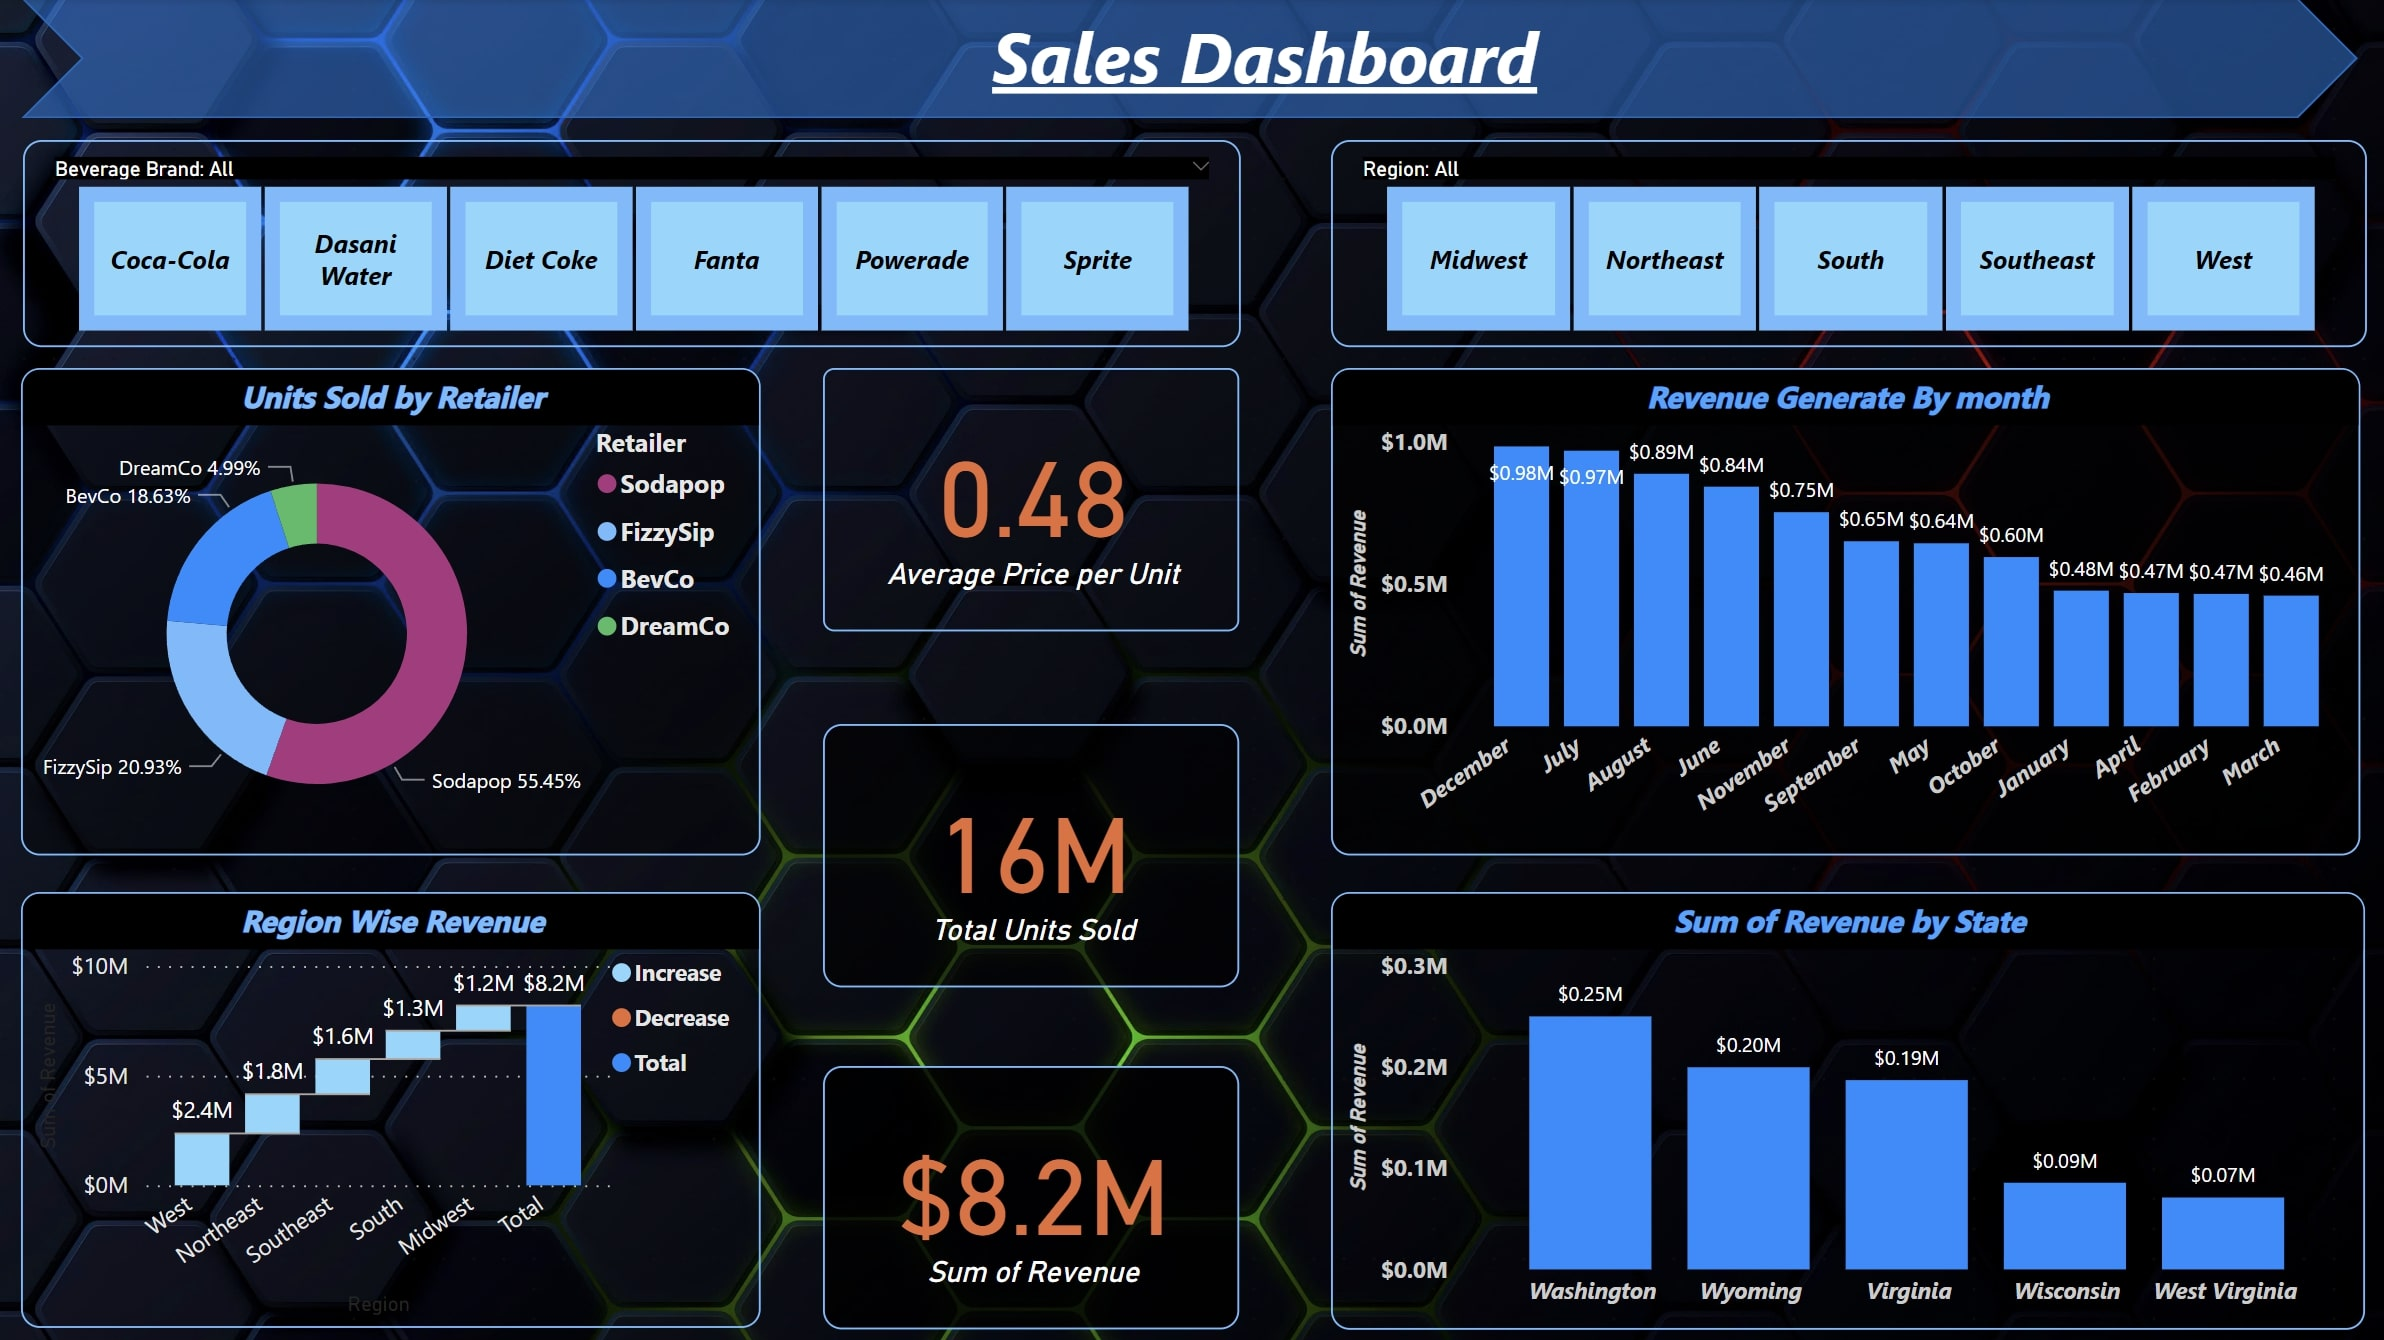

Layout of this report page (visuals, bound fields, positions):
{"tool":"powerbi","page":{"name":"Beverage Sales","canvas":[1280,720],"ordinal":0},"visuals":[{"type":"columnChart","title":"Revenue Generate By month","fields":{"Y":["Sum(Sheet1.Revenue)"],"Category":["Sheet1.Month Name"]},"box":[735.6,197.3,526.1,260],"z":0},{"type":"donutChart","title":"Units Sold by Retailer","fields":{"Y":["Sum(Sheet1.Units Sold)"],"Category":["Sheet1.Retailer"]},"box":[15.3,197.3,394.6,260],"z":1000},{"type":"card","fields":{"Values":["Sum(Sheet1.Revenue)"]},"box":[455.7,568.9,221.7,140.7],"z":2000},{"type":"card","fields":{"Values":["Sum(Sheet1.Units Sold)"]},"box":[455.7,386.9,221.7,140.7],"z":3000},{"type":"columnChart","fields":{"Category":["Sheet1.State"],"Y":["Sum(Sheet1.Revenue)"]},"box":[735.6,477.1,529.1,232.4],"z":4000},{"type":"card","fields":{"Values":["Avg(Sheet1.Price per Unit)"]},"box":[455.7,197.3,221.7,140.7],"z":5000},{"type":"slicer","fields":{"Values":["Sheet1.Region"]},"box":[737.1,76.5,527.6,110.1],"z":6000},{"type":"waterfallChart","title":"Region Wise Revenue","fields":{"Category":["Sheet1.Region"],"Y":["Sum(Sheet1.Revenue)"]},"box":[15.3,477.1,394.6,232.4],"z":7000},{"type":"slicer","fields":{"Values":["Sheet1.Beverage Brand"]},"box":[15.3,76.5,662.2,110.1],"z":8000},{"type":"shape","box":[15.3,0,1246.4,64.2],"z":9000},{"type":"textbox","box":[518.4,0,319.6,64.2],"z":10000}]}

Visuals, with their boxes in screenshot pixels (x1, y1, x2, y2), scaled from the page's 1280x720 canvas onto the 2384x1340 screenshot:
"Revenue Generate By month" columnChart: x1=1370, y1=367, x2=2350, y2=851
"Units Sold by Retailer" donutChart: x1=28, y1=367, x2=763, y2=851
card - Sum(Sheet1.Revenue): x1=849, y1=1059, x2=1262, y2=1321
card - Sum(Sheet1.Units Sold): x1=849, y1=720, x2=1262, y2=982
columnChart - Sheet1.State x Sum(Sheet1.Revenue): x1=1370, y1=888, x2=2356, y2=1320
card - Avg(Sheet1.Price per Unit): x1=849, y1=367, x2=1262, y2=629
slicer - Sheet1.Region: x1=1373, y1=142, x2=2356, y2=347
"Region Wise Revenue" waterfallChart: x1=28, y1=888, x2=763, y2=1320
slicer - Sheet1.Beverage Brand: x1=28, y1=142, x2=1262, y2=347
shape: x1=28, y1=0, x2=2350, y2=119
textbox: x1=966, y1=0, x2=1561, y2=119
